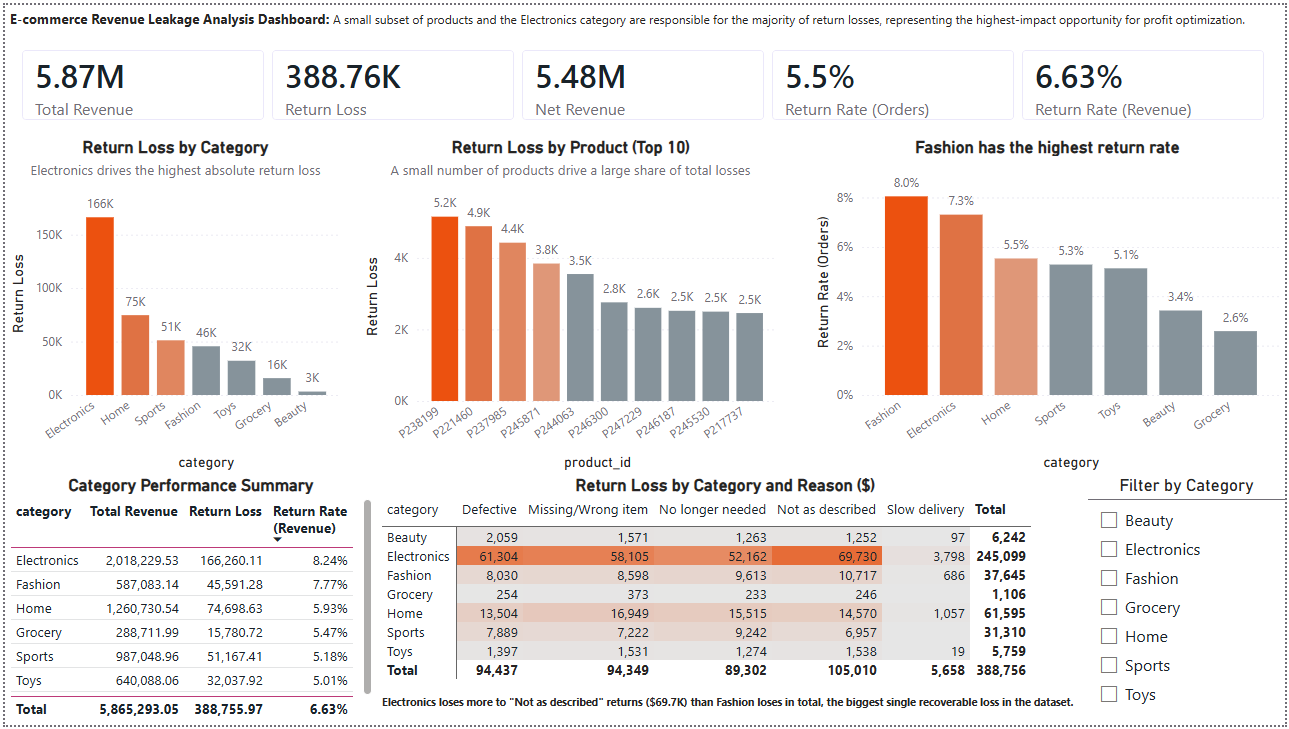

This screenshot's page, from the dashboard's own definition file:
{"tool":"powerbi","page":{"name":"Executive Summary","canvas":[1280,720],"ordinal":0},"visuals":[{"type":"clusteredColumnChart","title":"Return Loss by Category","fields":{"Category":["products.category"],"Y":["orders.Return Loss"]},"box":[0,131.8,340.9,337.8],"z":5000},{"type":"tableEx","title":"Category Performance Summary","fields":{"Values":["products.category","orders.Total Revenue","orders.Return Loss","orders.Return Rate"]},"box":[12.5,469.5,368.1,251],"z":6000},{"type":"clusteredColumnChart","title":"Fashion has the highest return rate","fields":{"Category":["products.category"],"Y":["orders.Return Rate (Orders)"]},"box":[805.2,131.8,474.8,337.8],"z":7000},{"type":"clusteredColumnChart","title":"Return Loss by Product (Top 10)","fields":{"Category":["products.product_id"],"Y":["orders.Return Loss"]},"box":[368.1,131.8,422.5,337.8],"z":8000},{"type":"textbox","box":[0,0,1280,93.1],"z":10000},{"type":"tableEx","title":"High Risk Products (100% Return Rate)","fields":{"Values":["products.product_id","orders.Product Risk","orders.Return Loss","orders.Return Rate"]},"box":[380.7,469.5,340.9,251],"z":11000},{"type":"slicer","fields":{"Values":["products.category"]},"box":[1155.6,469.5,124.4,251],"z":12000},{"type":"cardVisual","fields":{"Data":["orders.Total Revenue","orders.Return Loss","orders.Net Revenue","orders.Return Rate (Orders)","orders.Return Rate"]},"box":[0,28.2,1280,103.5],"z":12001},{"type":"textbox","box":[721.6,469.5,434,251],"z":12002}]}

Visuals, with their boxes in screenshot pixels (x1, y1, x2, y2), scaled from the page's 1280x720 canvas onto the 1289x729 screenshot:
"Return Loss by Category" clusteredColumnChart: [0, 133, 343, 475]
"Category Performance Summary" tableEx: [13, 475, 383, 728]
"Fashion has the highest return rate" clusteredColumnChart: [811, 133, 1288, 475]
"Return Loss by Product (Top 10)" clusteredColumnChart: [371, 133, 796, 475]
textbox: [0, 0, 1288, 94]
"High Risk Products (100% Return Rate)" tableEx: [383, 475, 727, 728]
slicer - products.category: [1164, 475, 1288, 728]
cardVisual - orders.Total Revenue x orders.Return Loss: [0, 29, 1288, 133]
textbox: [727, 475, 1164, 728]
